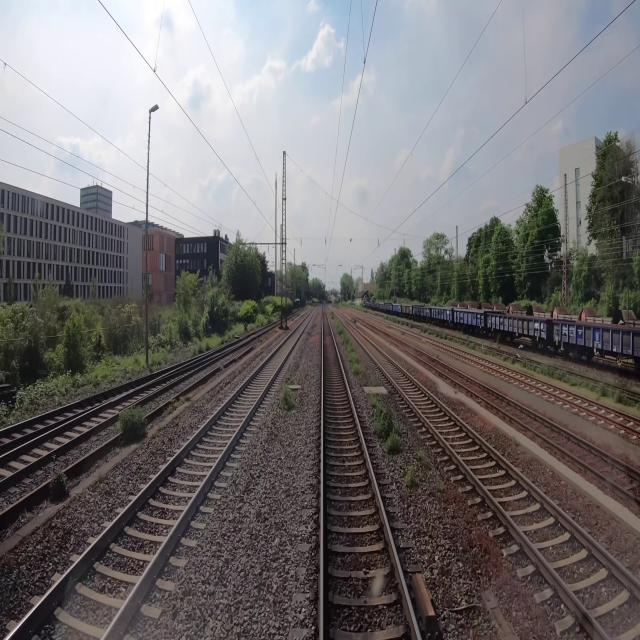Plant: (366, 393, 402, 455), (335, 316, 364, 373), (117, 404, 148, 445), (49, 471, 72, 500), (279, 384, 297, 410), (405, 465, 419, 489), (417, 447, 428, 467), (437, 480, 446, 491)
